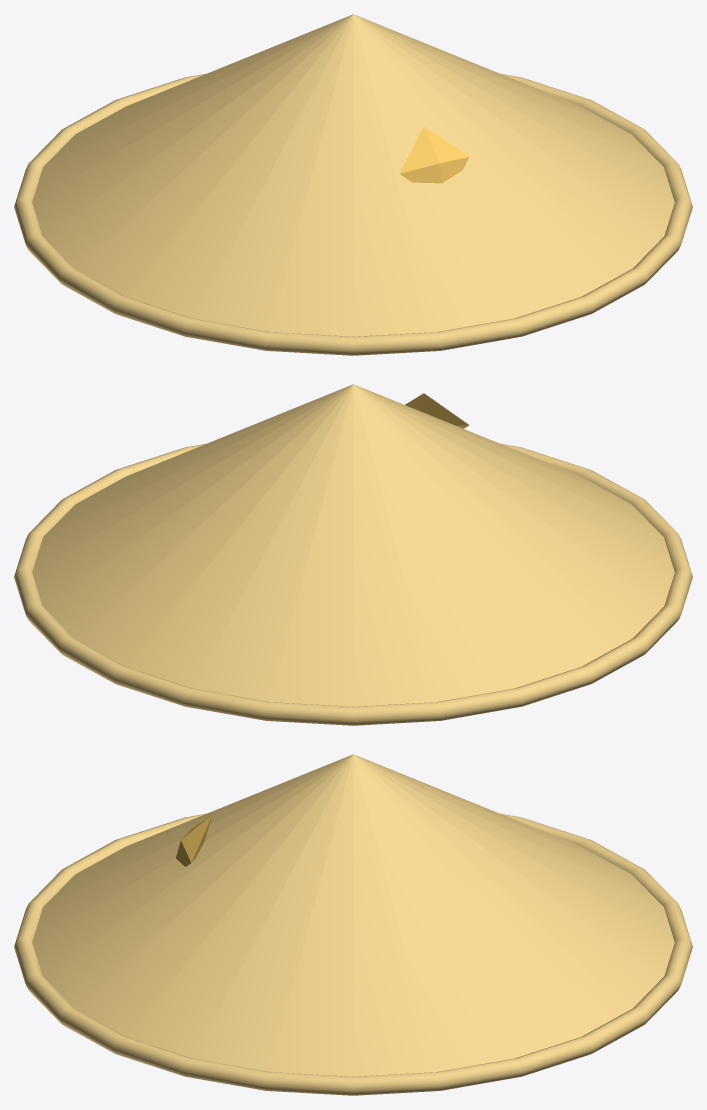
Rendered from shield.glb.
3 renders of one model, top to bottom at view 1: azimuth 30°, elevation 25°; view 2: azimuth 150°, elevation 25°; view 3: azimuth 270°, elevation 25°, orthographic.
Visible parts, largest first — view 1: shield; view 2: shield; view 3: shield.
Part boxes in pixels (x1,y1,x2,y2): shield: (14, 14, 692, 355); shield: (14, 384, 692, 725); shield: (14, 754, 692, 1095).
Bounding box in the file's own units: 1.34 × 0.44 × 1.34.
